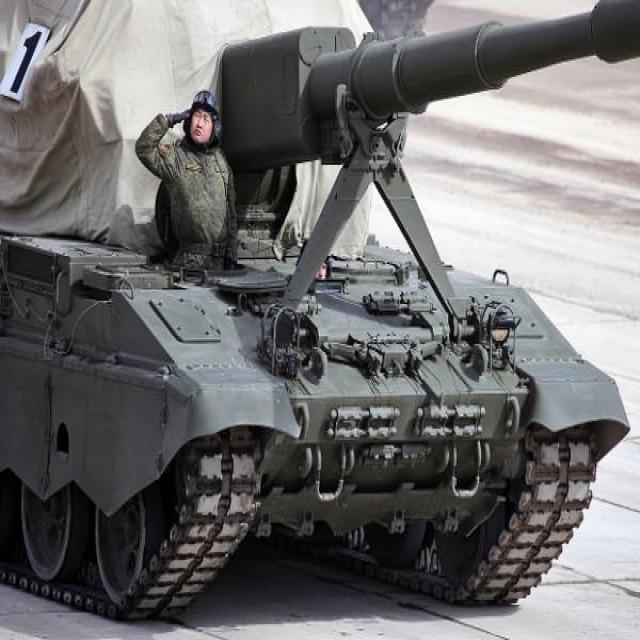Tanks: (16, 21, 597, 614)
